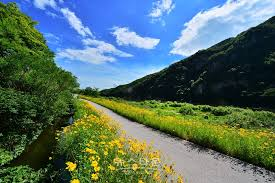flower: (63, 102, 165, 182)
mountain: (144, 25, 275, 112)
sky: (37, 3, 268, 80)
tree: (2, 10, 73, 157)
